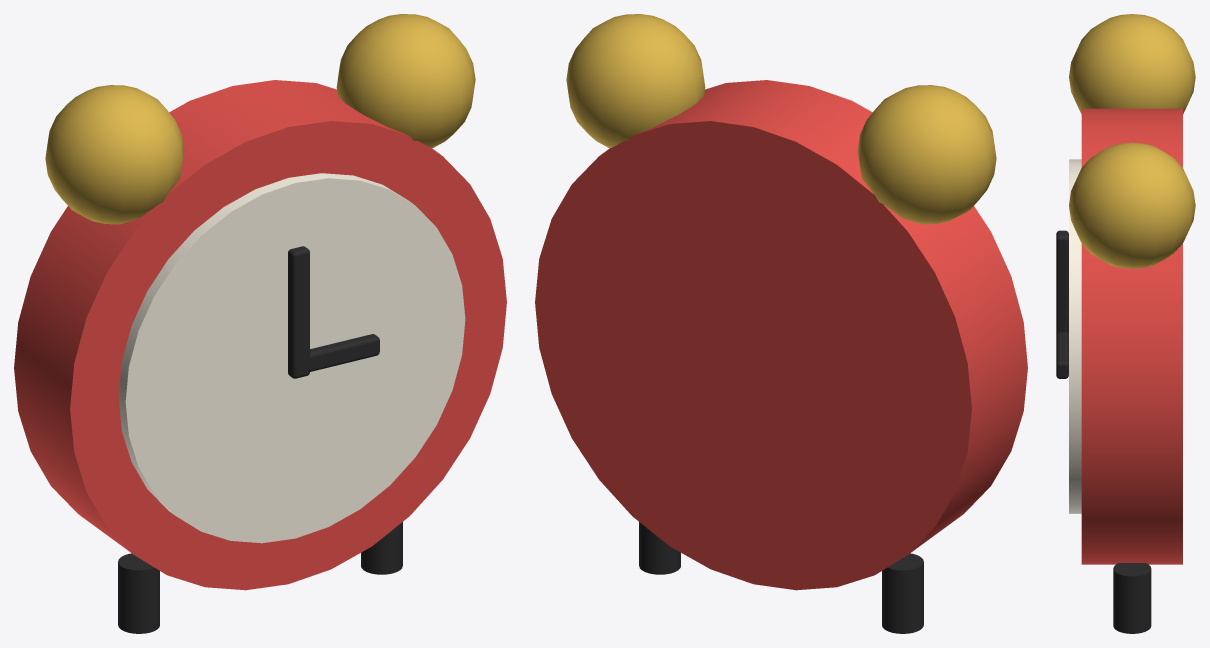
Rendered from clock.glb.
The picture shows the model from 3 angles, left to right: view 1: azimuth 30°, elevation 25°; view 2: azimuth 150°, elevation 25°; view 3: azimuth 270°, elevation 25°; orthographic projection. The views are drawn at different scales.
Parts seen in each view (by area): view 1: Dial, Body, BellL, BellR, FootL, HandA, HandB, FootR; view 2: Body, BellL, BellR, FootL, FootR; view 3: Body, BellR, BellL, Dial, FootR, HandA, HandB.
Part boxes in pixels (left/top/right/bottom): Dial: left=118, top=173, right=465, bottom=543; Body: left=14, top=80, right=506, bottom=590; BellL: left=45, top=85, right=184, bottom=224; BellR: left=336, top=14, right=475, bottom=148; FootL: left=118, top=553, right=159, bottom=633; HandA: left=288, top=246, right=309, bottom=378; HandB: left=308, top=334, right=379, bottom=371; FootR: left=361, top=522, right=402, bottom=574; Body: left=535, top=80, right=1027, bottom=590; BellL: left=857, top=85, right=996, bottom=224; BellR: left=566, top=14, right=705, bottom=148; FootL: left=882, top=553, right=923, bottom=633; FootR: left=639, top=522, right=680, bottom=574; Body: left=1081, top=108, right=1182, bottom=564; BellR: left=1069, top=142, right=1195, bottom=268; BellL: left=1069, top=14, right=1195, bottom=114; Dial: left=1069, top=159, right=1081, bottom=513; FootR: left=1113, top=563, right=1151, bottom=633; HandA: left=1056, top=230, right=1068, bottom=333; HandB: left=1056, top=332, right=1068, bottom=378.
Size of the model in its own units: 0.36 by 0.425 by 0.11.
